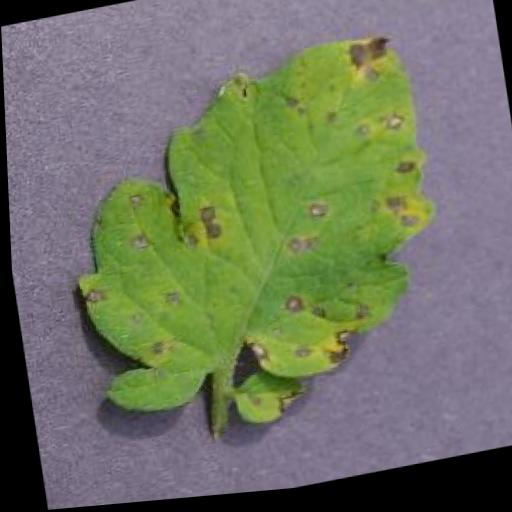Septoria: (46, 29, 462, 461)
